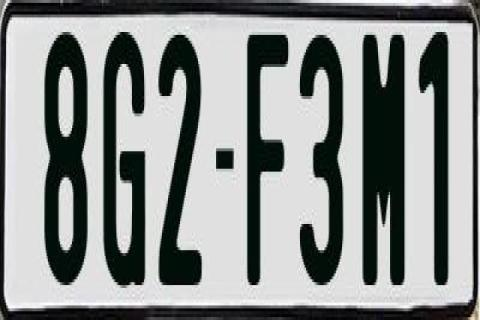0: (300, 27, 350, 280), (156, 26, 202, 276), (44, 29, 88, 288), (418, 24, 450, 288)
F: (248, 35, 290, 285)
G: (100, 27, 144, 297)
M: (362, 32, 404, 294)
